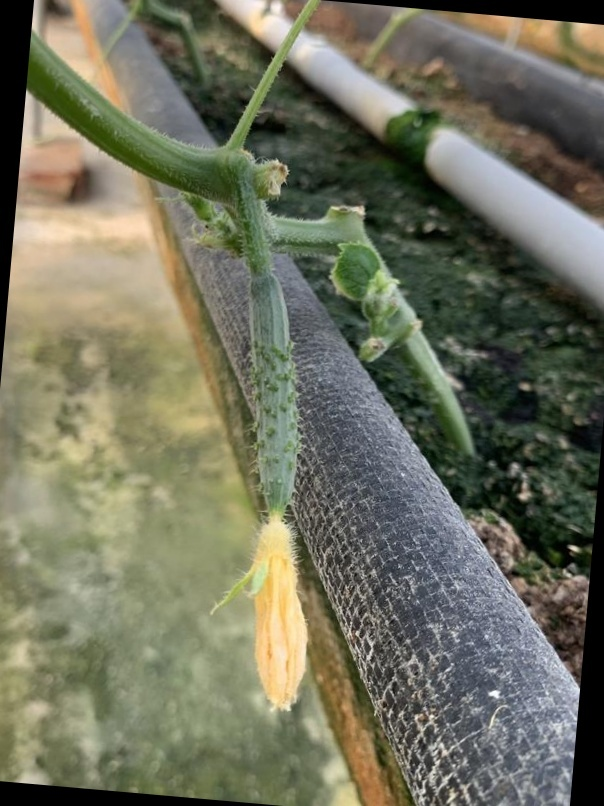bear: (171, 228, 347, 733)
